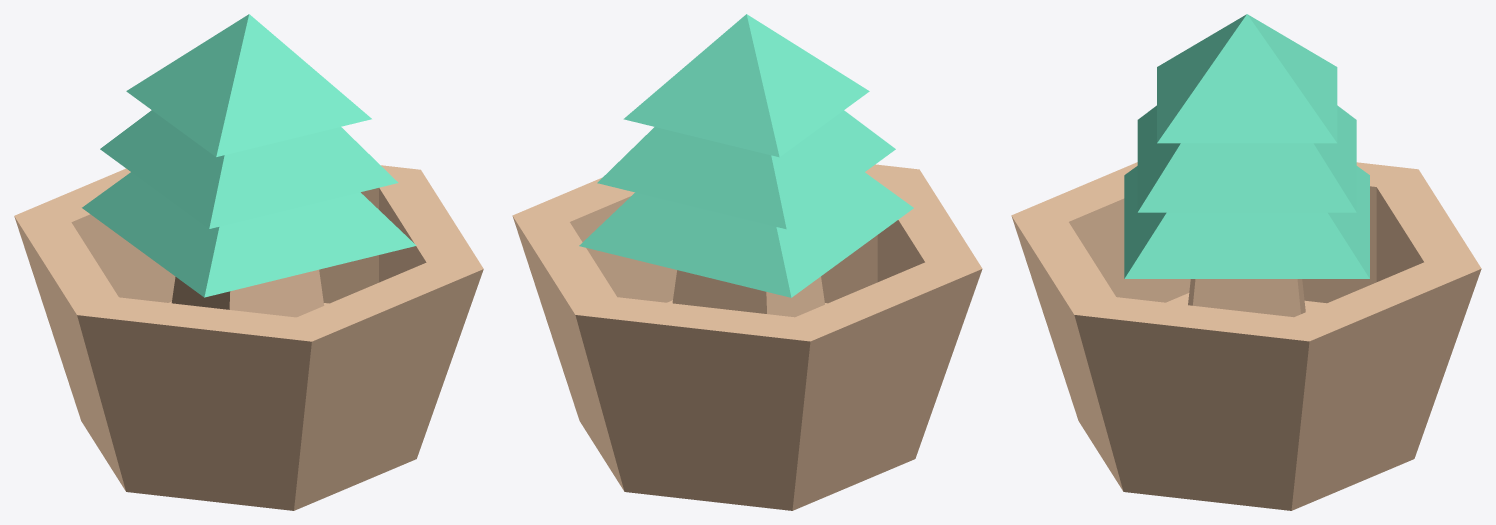
File: kn-plant-small1.glb
The picture shows the model from 3 angles, left to right: view 1: azimuth 30°, elevation 25°; view 2: azimuth 150°, elevation 25°; view 3: azimuth 270°, elevation 25°; orthographic projection.
Visible parts, largest first — view 1: plantSmall1(Clone); view 2: plantSmall1(Clone); view 3: plantSmall1(Clone).
Part boxes in pixels (x1,y1,x2,y2): plantSmall1(Clone): (14,14,483,510); plantSmall1(Clone): (512,14,982,510); plantSmall1(Clone): (1011,14,1481,510).
Bounding box in the file's own units: 1 × 1 × 1.
